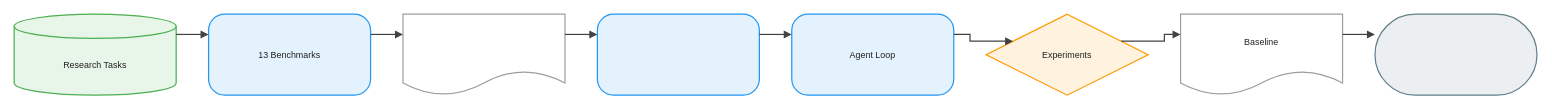
Some shapes in this 1552 by 110 pixel diagram are drawn without their labels. The shapes that lost their labels are listed below. From the top down, each one's box as (x1, y1, x2, y2) in pixels, then its label:
(402, 13, 565, 95): Gym Wrapper
(596, 13, 760, 95): Workspace Env
(1374, 13, 1537, 95): Task Score
